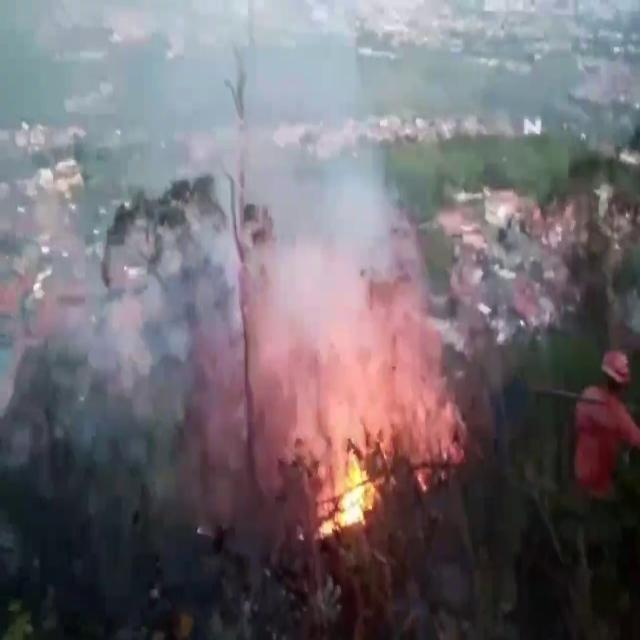Fire: (320, 439, 384, 542)
Smoke: (2, 0, 442, 452)
